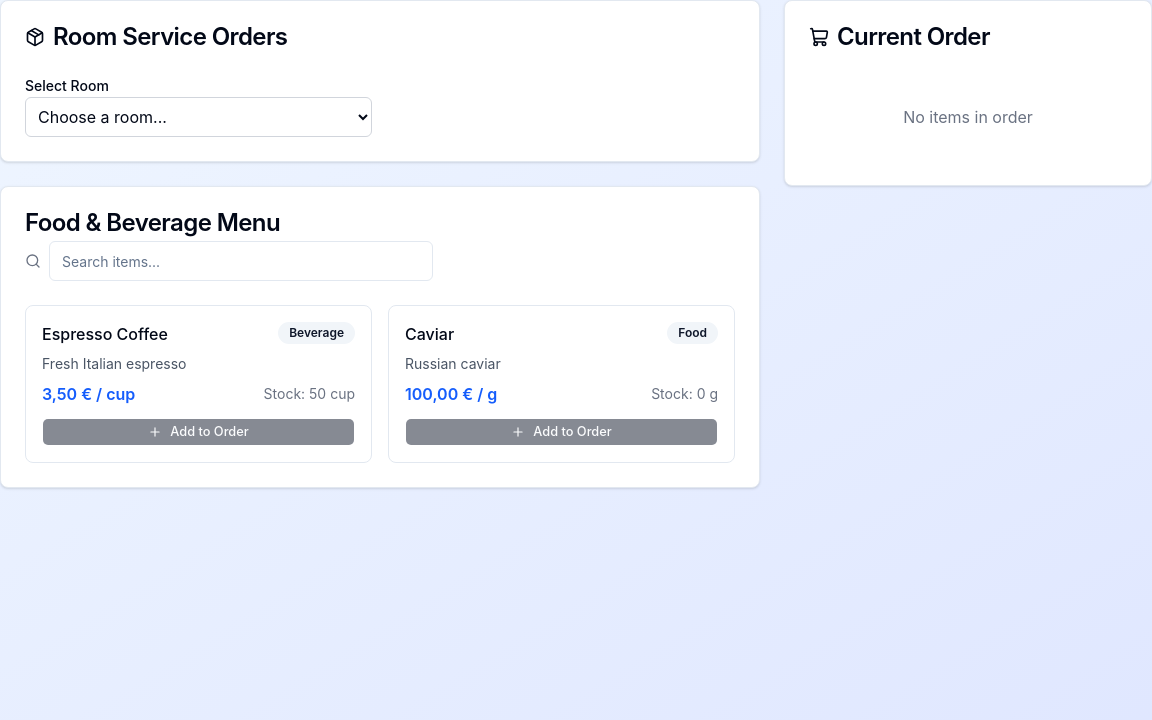
RoomServiceOrders › out-of-stock items › disables Add to Order for out-of-stock items
# Select a room
Select "Room 101 - BD" in the dropdown at (198, 117), box [25,97,372,137]
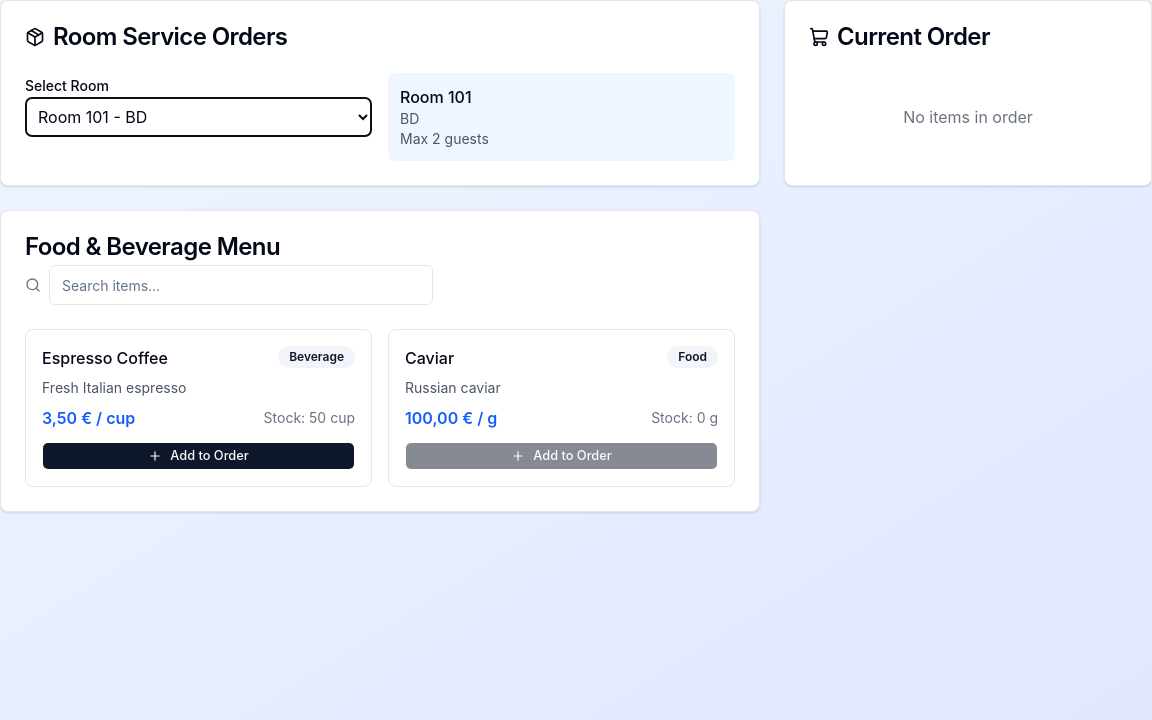
Expected: the button "Add to Order" below "100,00 €" is disabled, [405,442,718,470]
Result: the button "Add to Order" below "3,50 €" is enabled at [42,442,355,470]
